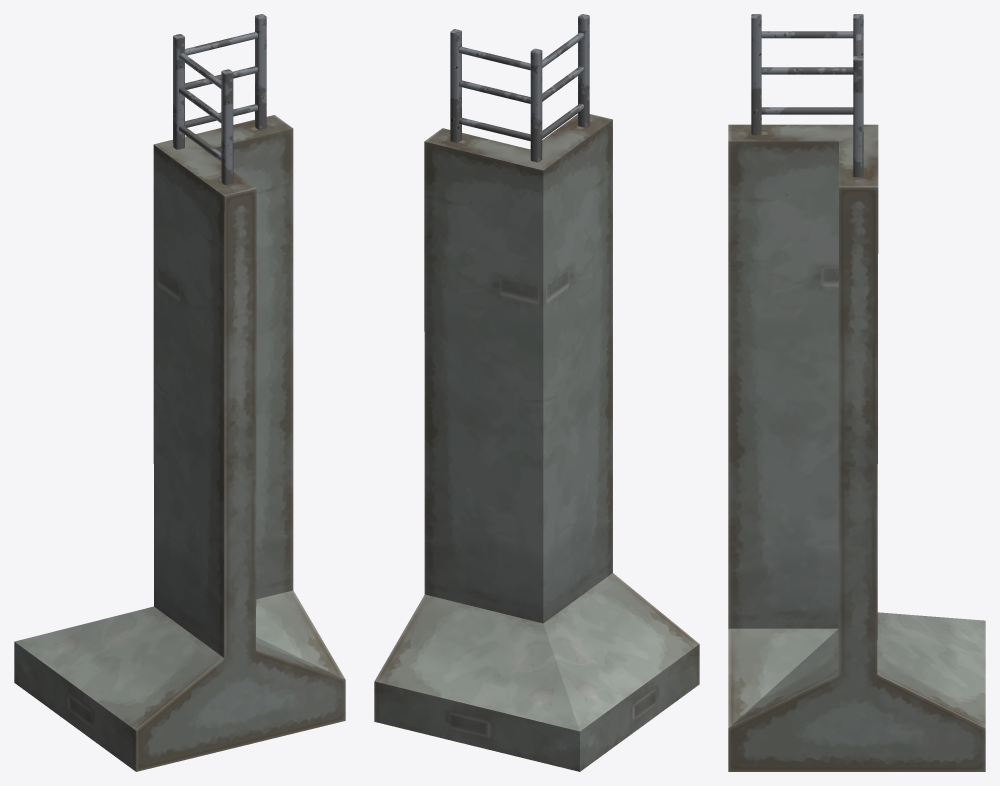
File: BarrierConcrete02_6.FBX
3 views of the same model, side by side, from view 1: azimuth 30°, elevation 25°; view 2: azimuth 150°, elevation 25°; view 3: azimuth 270°, elevation 25° (orthographic). The views are drawn at different scales.
Visible parts, largest first — view 1: BarrierConcrete02_6; view 2: BarrierConcrete02_6; view 3: BarrierConcrete02_6.
Part boxes in pixels (left/top/right/bottom): BarrierConcrete02_6: left=14, top=14, right=345, bottom=771; BarrierConcrete02_6: left=374, top=14, right=699, bottom=771; BarrierConcrete02_6: left=728, top=14, right=985, bottom=771.
Size of what is drawn, in the model's own units: 0.989 by 3 by 0.9965.
